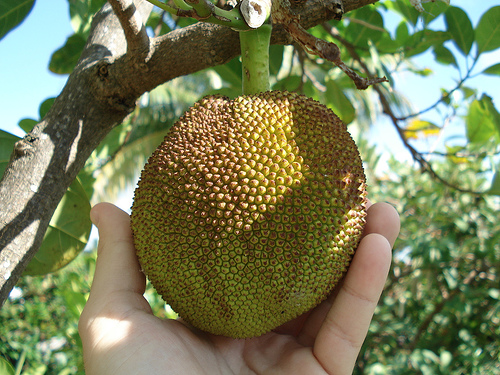jackfruit: (122, 92, 371, 337)
